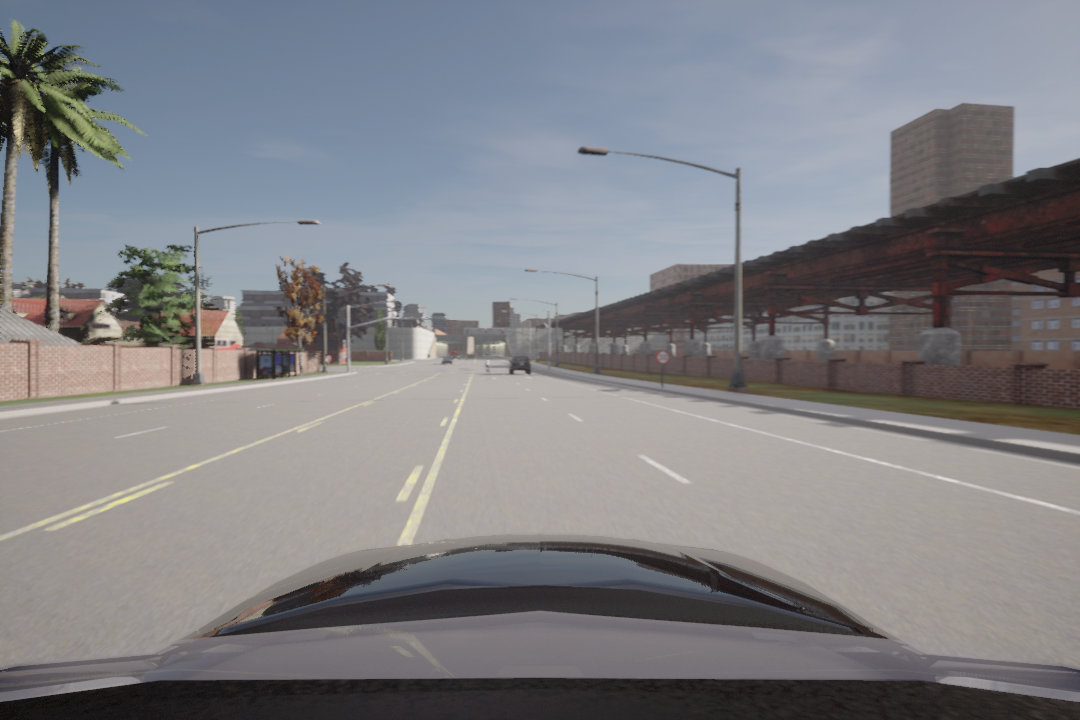TrafficSign_speed: (657, 349, 671, 366)
